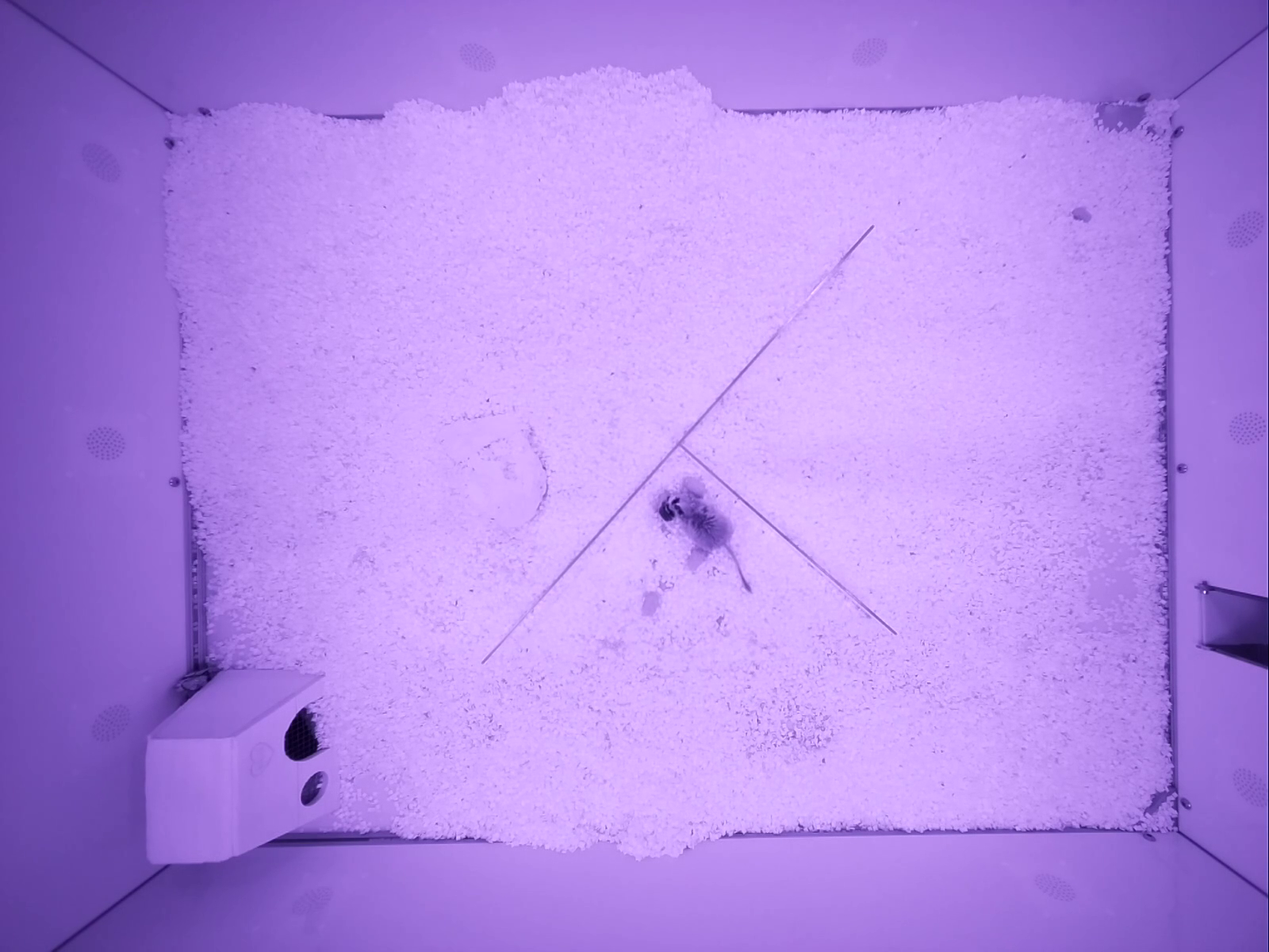adult_back: (658, 477, 750, 591)
